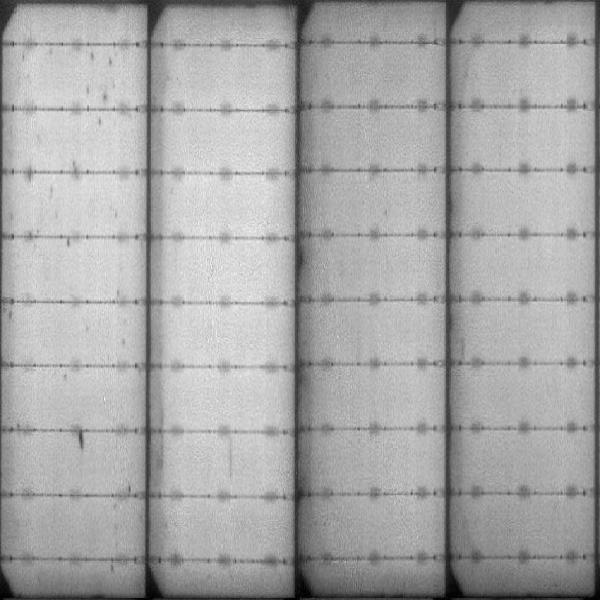scratch: (84, 47, 116, 127), (221, 432, 240, 489), (71, 421, 91, 457)
